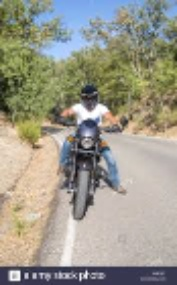Vehicle: (55, 112, 131, 222)
